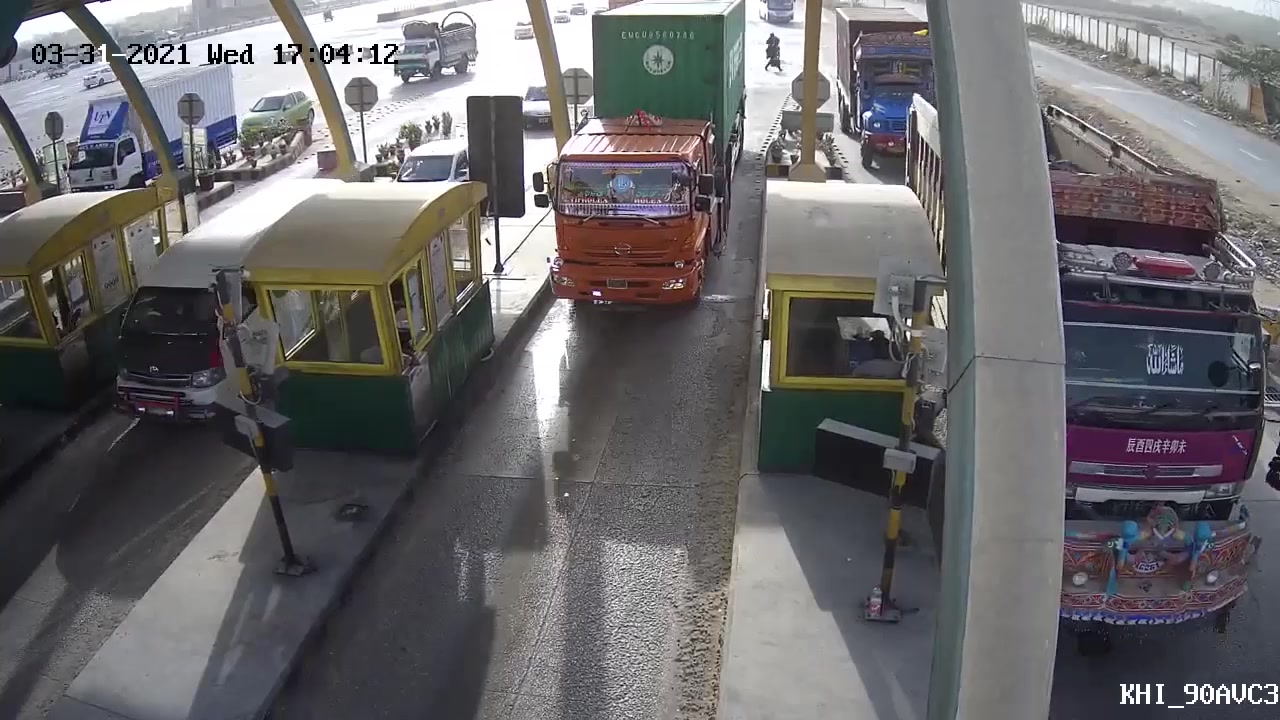F6: (541, 1, 751, 327)
